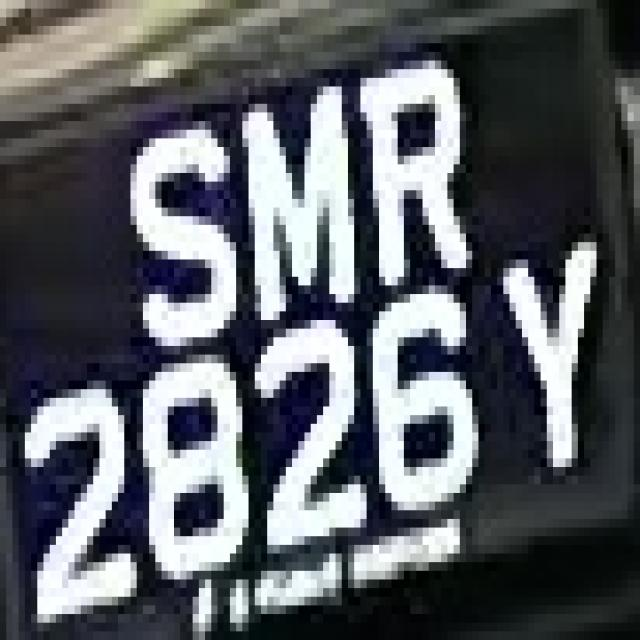2: (249, 286, 379, 580), (0, 372, 130, 597)
6: (360, 277, 485, 519)
8: (137, 363, 261, 588)
M: (218, 60, 354, 346)
R: (348, 35, 478, 294)
S: (99, 103, 230, 354)
Y: (472, 250, 603, 476)
